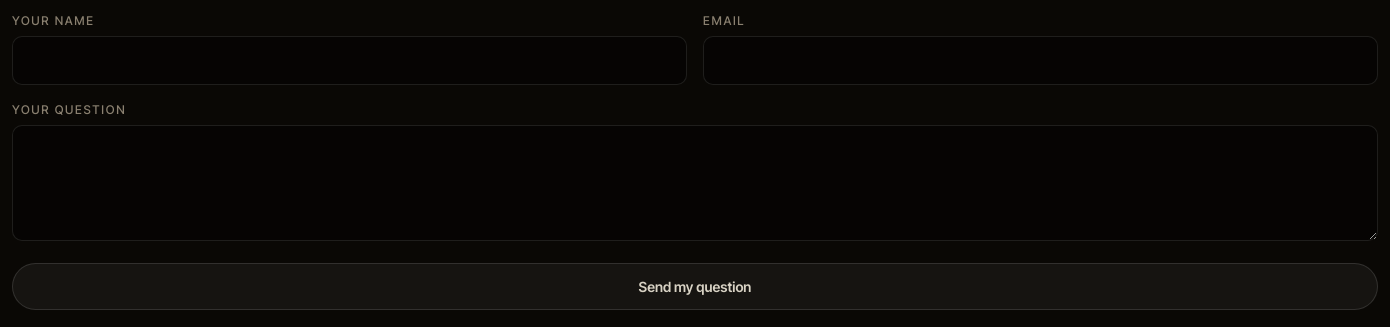
Test case: QuestionForm › sends it as a maker by email and thanks them
The image size is (1390, 327).
Type "June" into the field labelled "Your name".
click(350, 60); type("June")  # box [12,36,687,84]
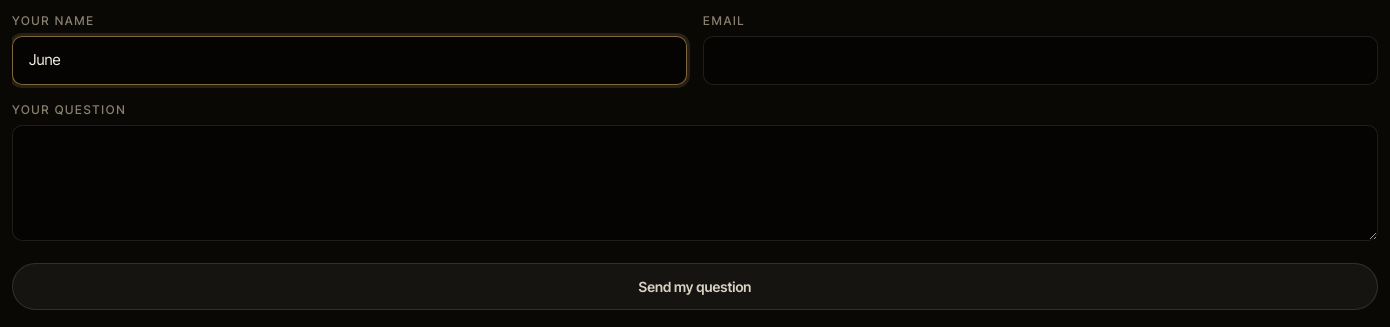
Type "june@example.com" into the field labelled "Email".
click(1040, 60); type("june@example.com")  # box [703,36,1378,84]
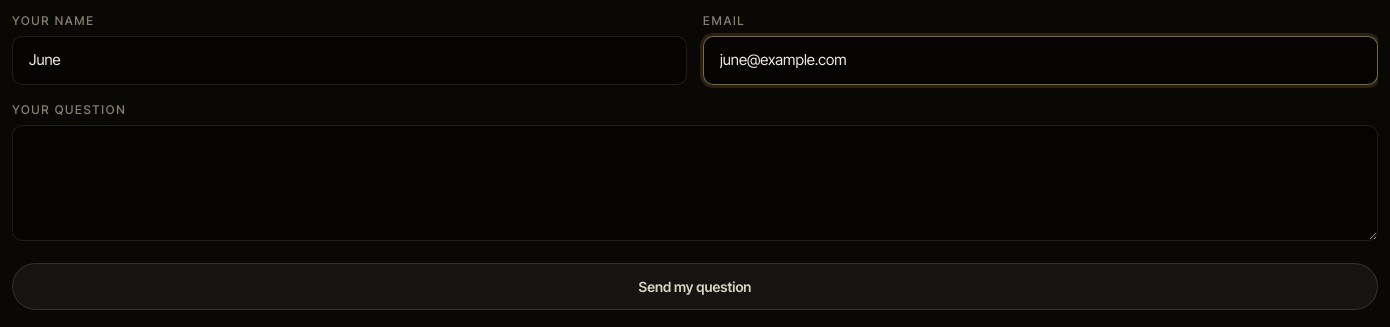
Type "Can I sell digital patterns?" into the text box labelled "Your question".
click(695, 182); type("Can I sell digital patterns?")  # box [12,124,1378,240]
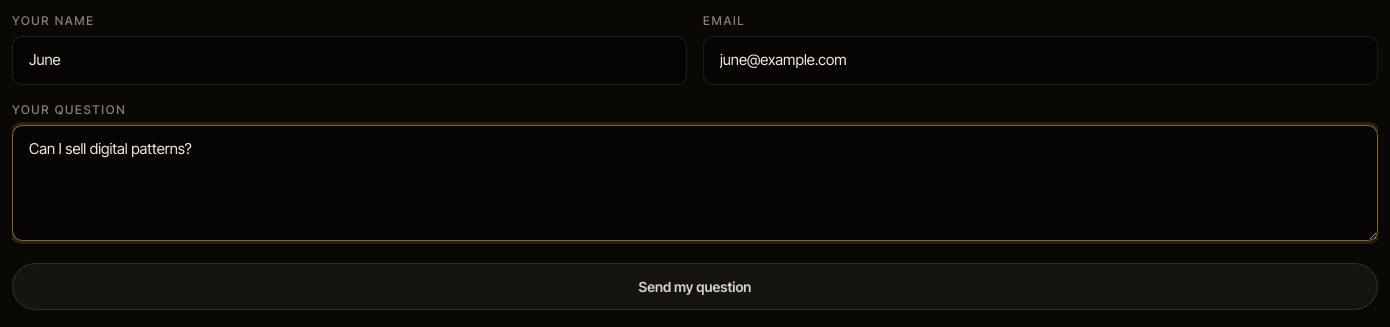
Click the button "Send my question".
click(695, 286)  # box [12,262,1378,310]
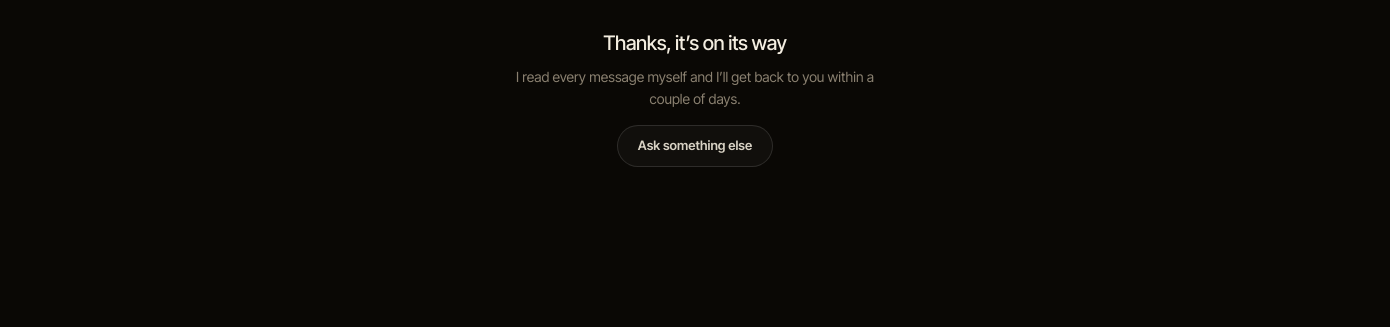
expect the message shows "Thanks, it’s on its way": met, box [603,31,787,55]
